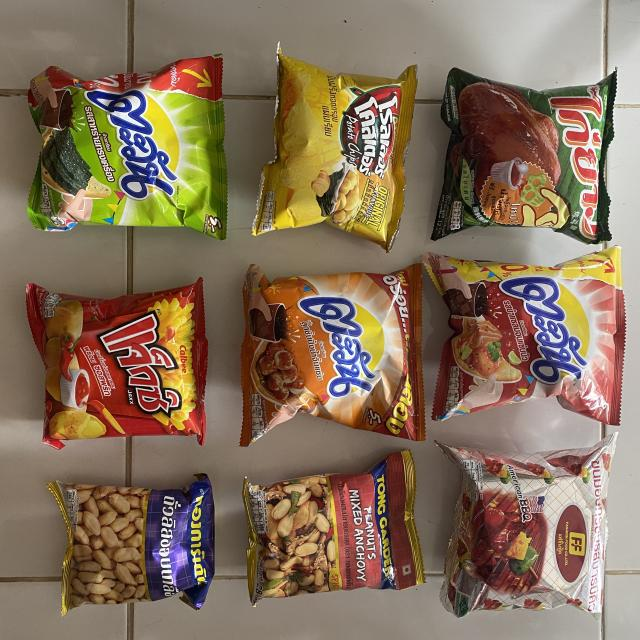plastik: (26, 55, 228, 240), (421, 246, 625, 425), (252, 46, 418, 250), (240, 264, 425, 446), (438, 432, 618, 618), (431, 68, 616, 244), (26, 278, 208, 449), (242, 450, 425, 605), (48, 474, 214, 615)
